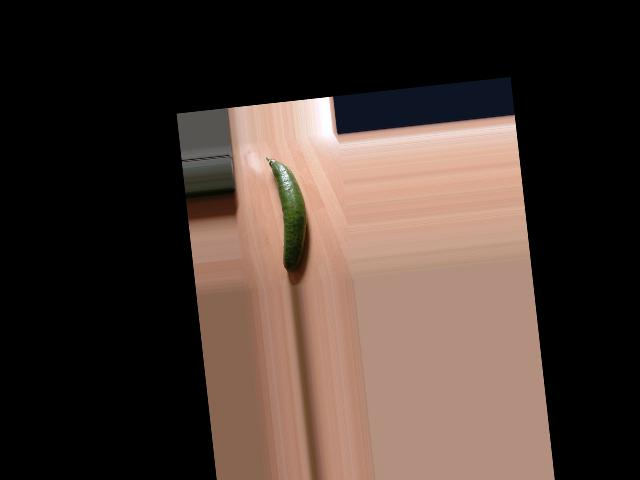cucumber: (266, 152, 313, 274)
